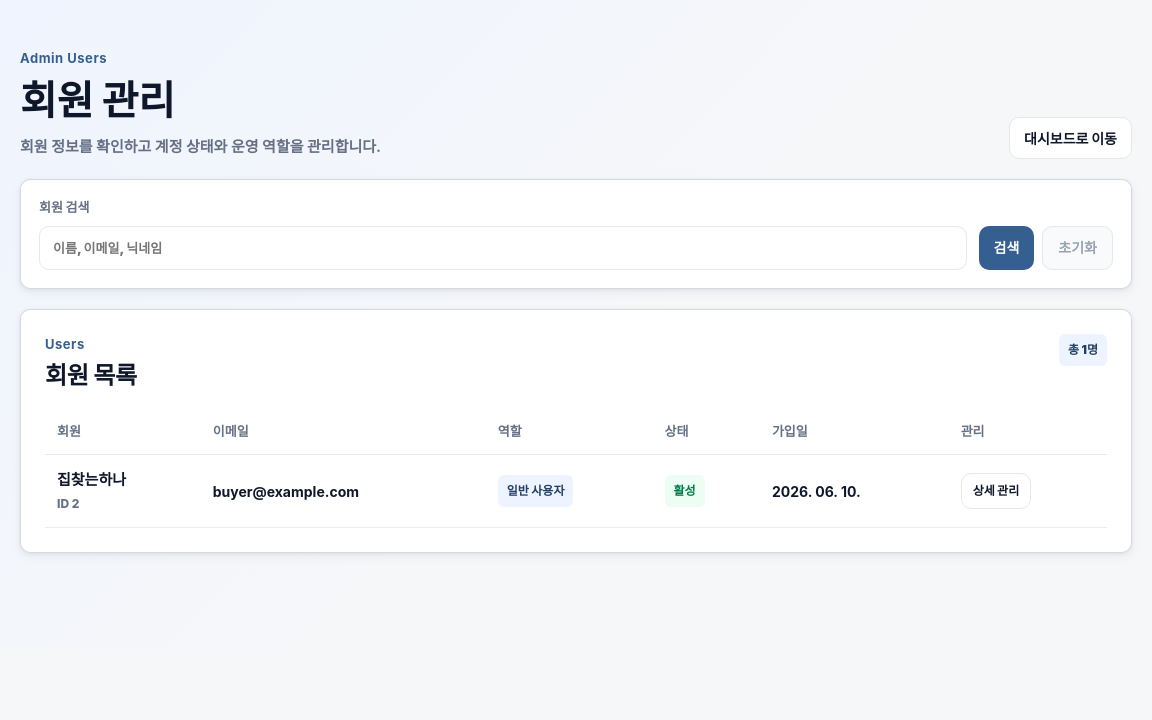
AdminUsersView › 선택 회원의 상태와 역할을 변경한다
The width and height of the screenshot is (1152, 720).
Click the button "상세 관리" at (996, 491), box [961,473,1031,509]
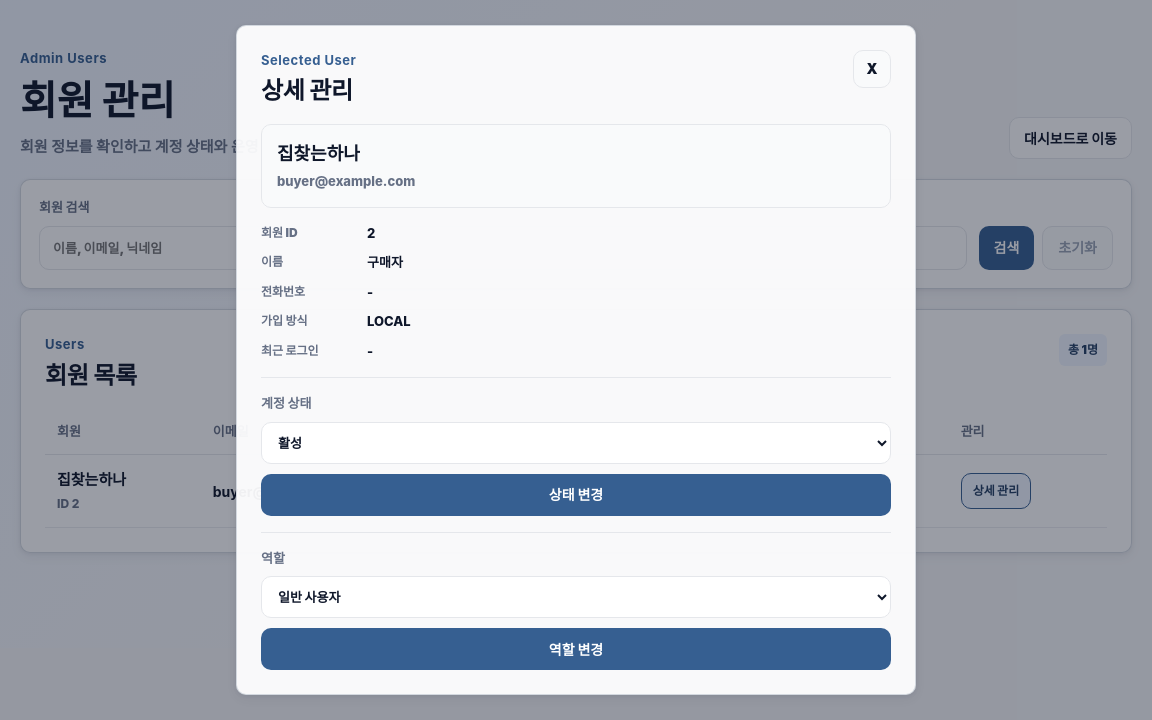
Select "정지" in the dropdown labelled "계정 상태" at (576, 443), box [261,422,891,464]
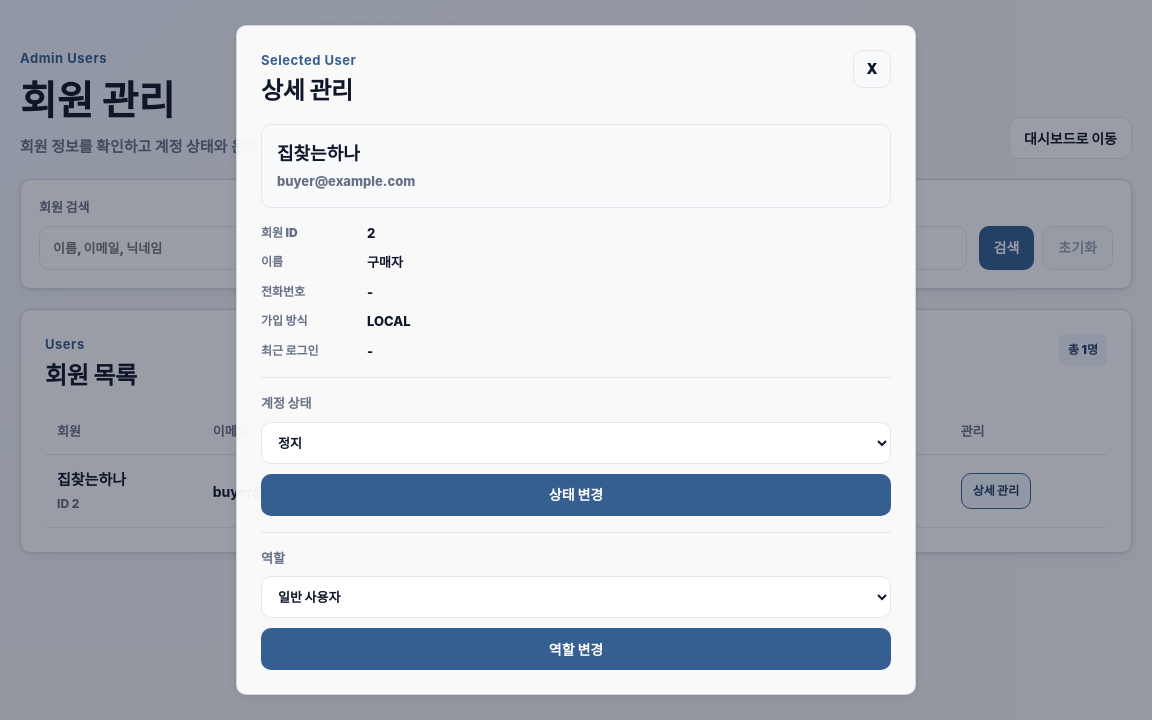
Submit the form with class "action-form" showing "계정 상태 상태 변경", box [261,377,891,516]
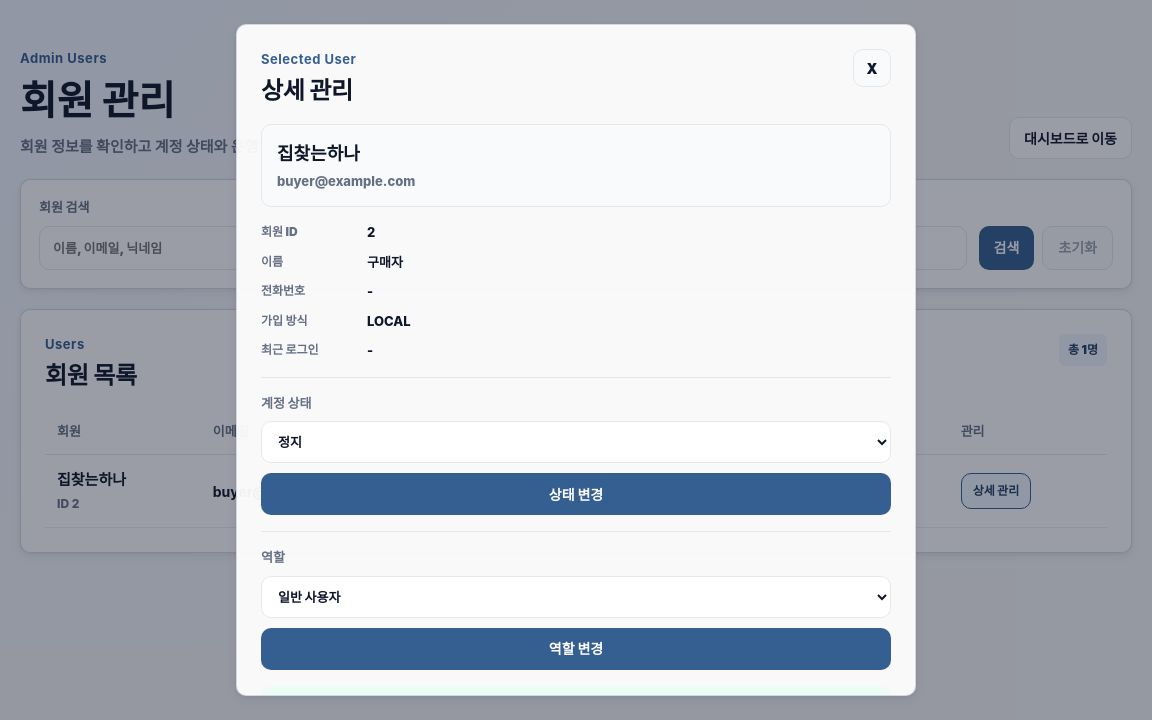
Select "중개인" in the dropdown labelled "역할" at (576, 597), box [261,576,891,618]
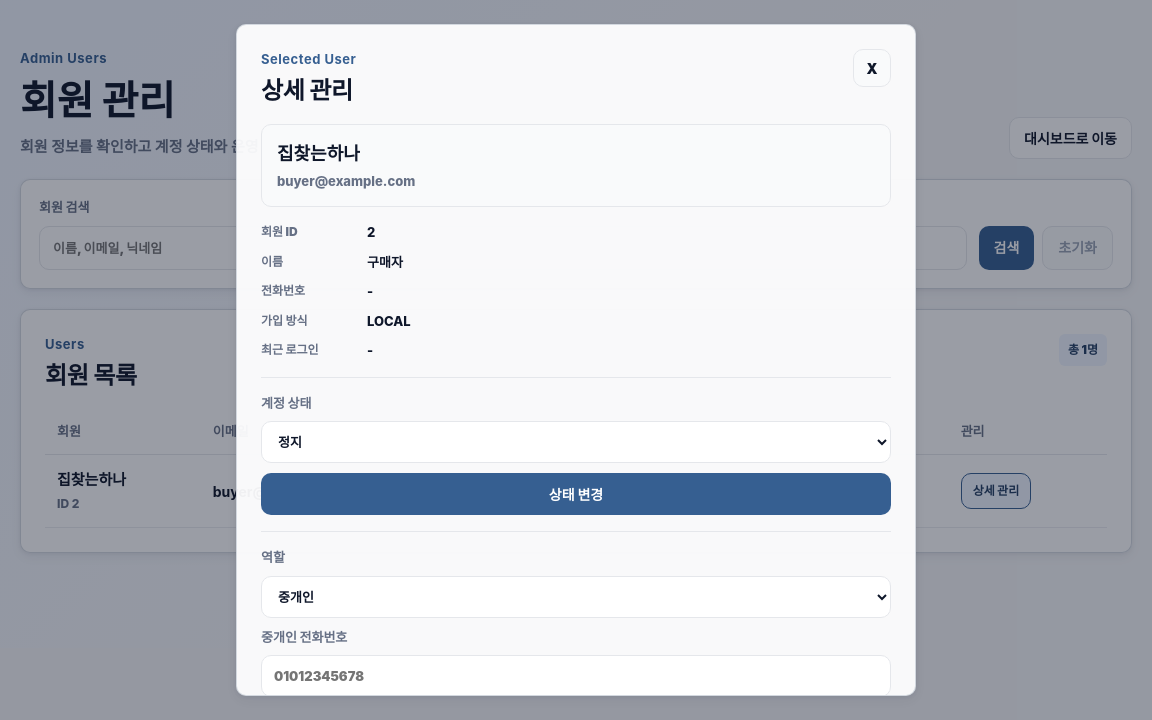
Type "  01098765432  " into the field labelled "중개인 전화번호" at (576, 676), box [261,655,891,697]
(page scrolled)
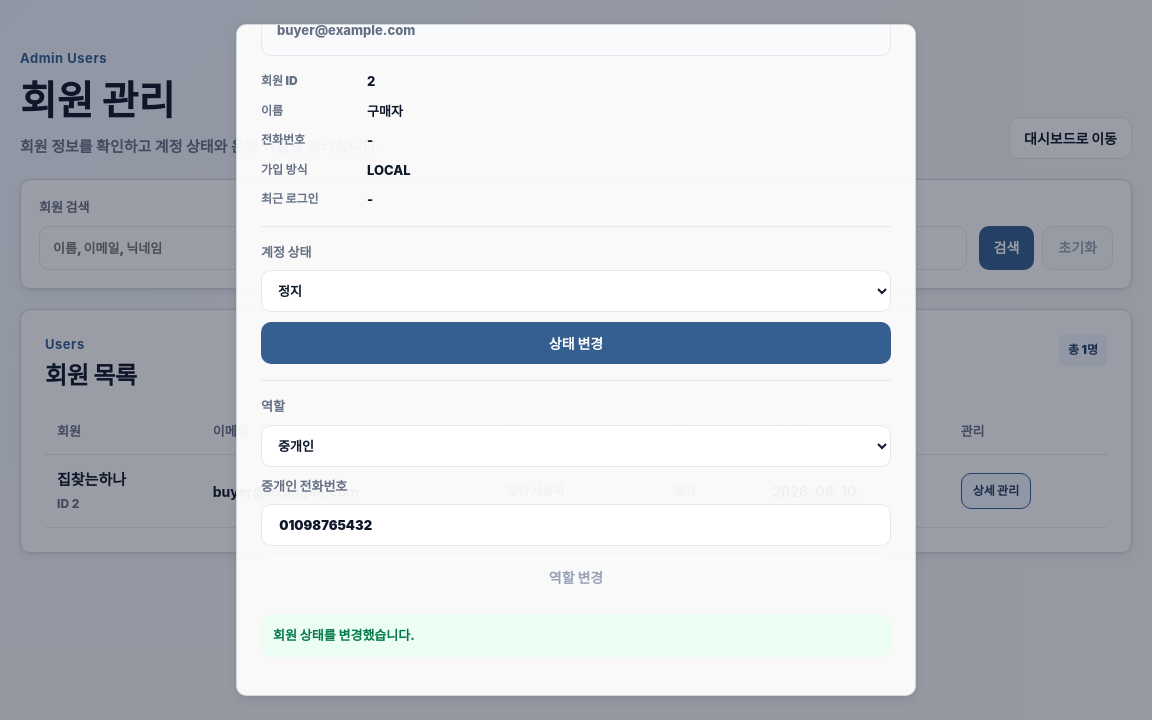
Submit the form with class "action-form" showing "역할 중개인 전화번호 역할 변경", box [261,380,891,598]
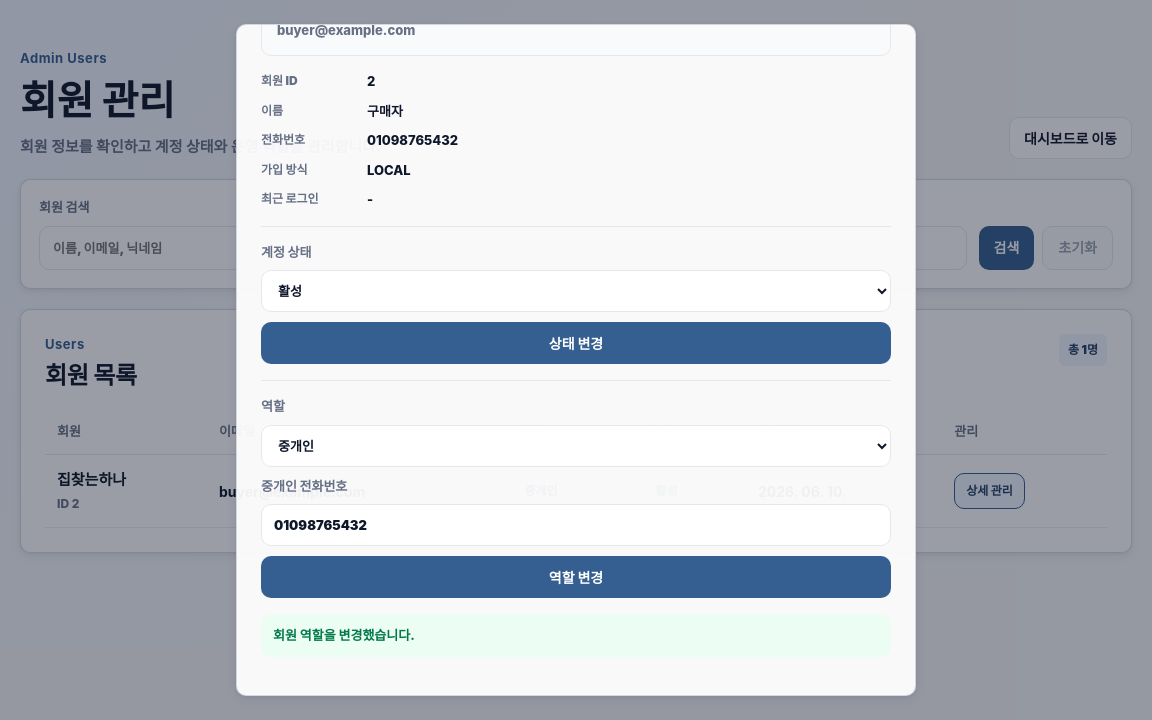
Now the text "회원 역할을 변경했습니다." is shown, box [261,614,891,657]
